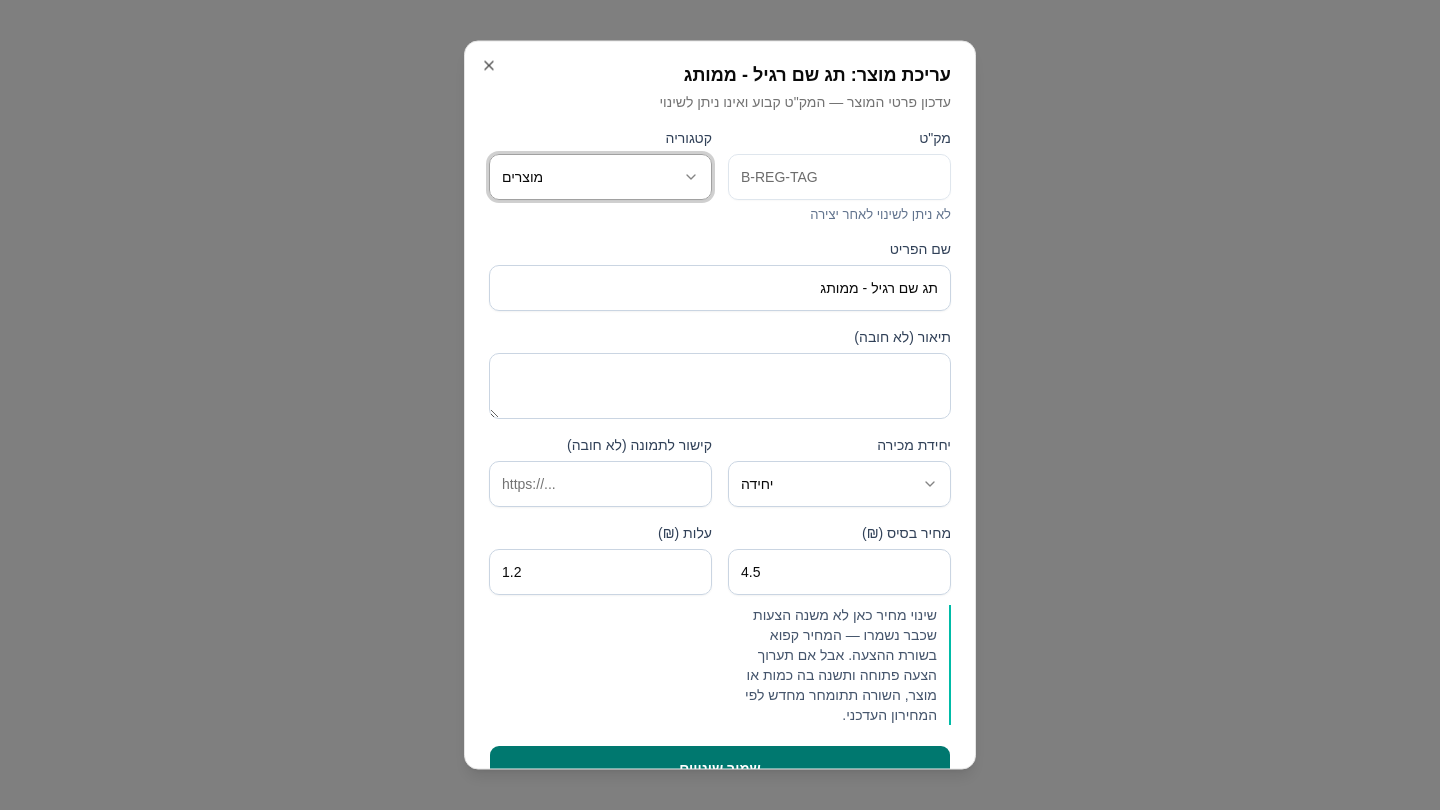
Scenario: מחיר ועלות — עקביות ותקרת-שפיות › מחיר מעל 100,000 ⇒ שגיאה חוסמת
Replace the text in the number field with test id "product-form-base-price" with "5000000" at (840, 572), box 728,549 -> 951,595
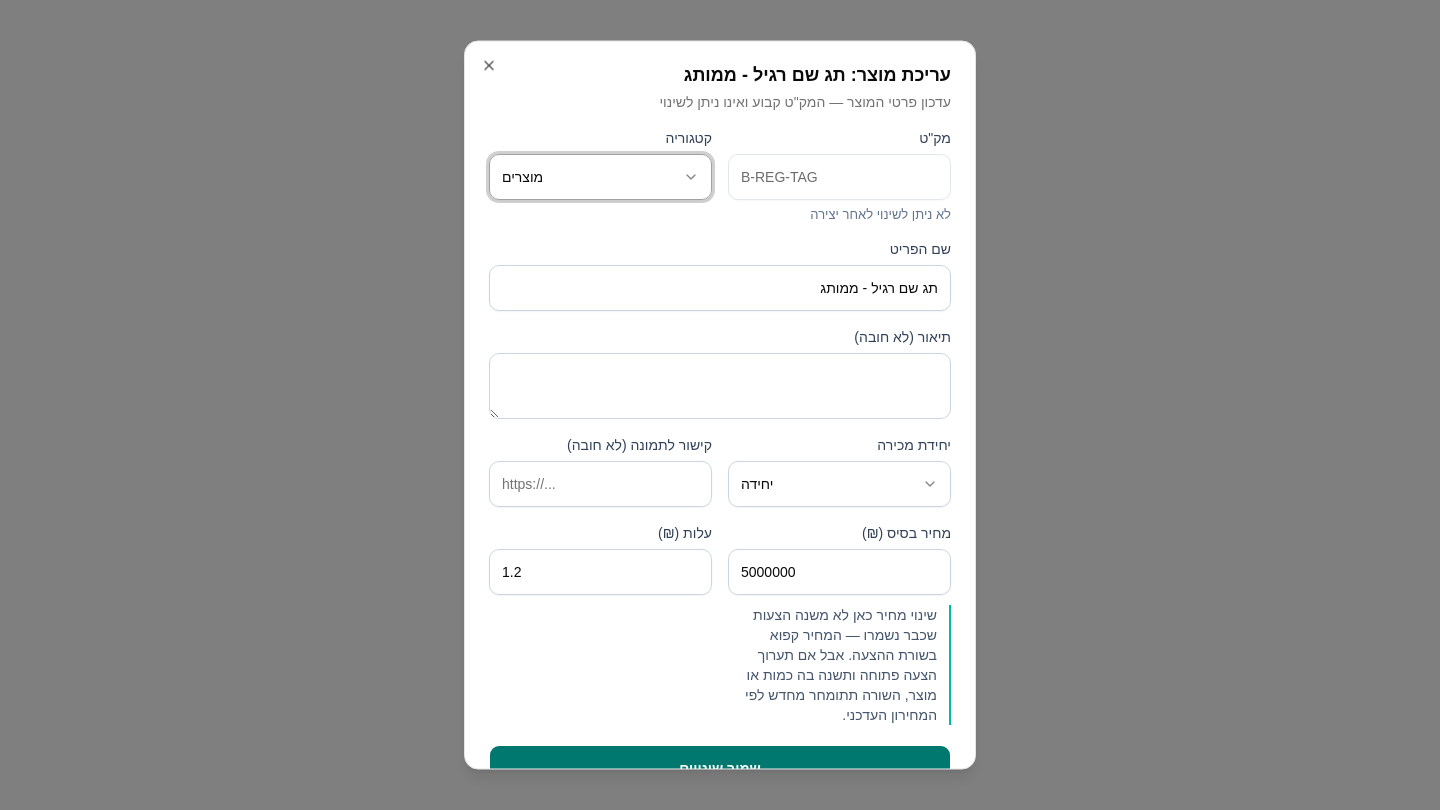
Leave the number field with test id "product-form-base-price", box 728,549 -> 951,595
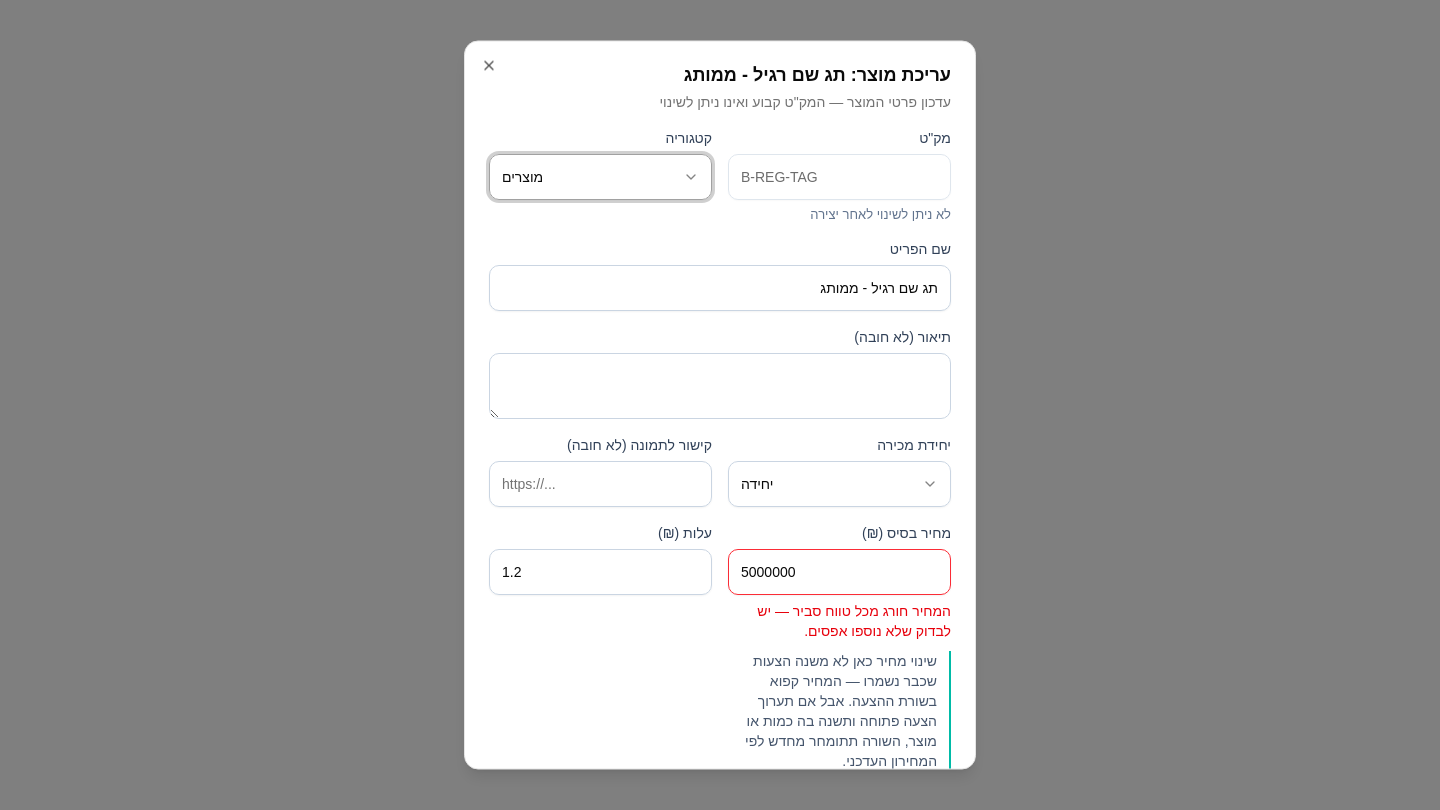
Expected: the text with test id "product-field-error-base_price" reads "המחיר חורג מכל טווח סביר — יש לבדוק שלא נוספו אפסים.", 757,603 -> 951,639
